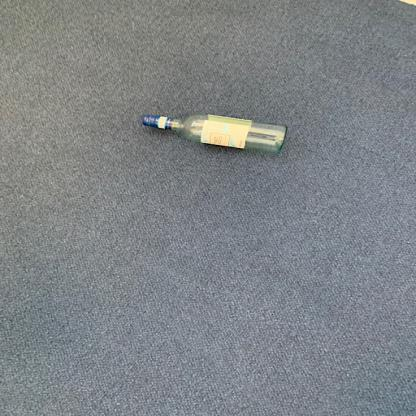trash: (136, 112, 291, 158)
